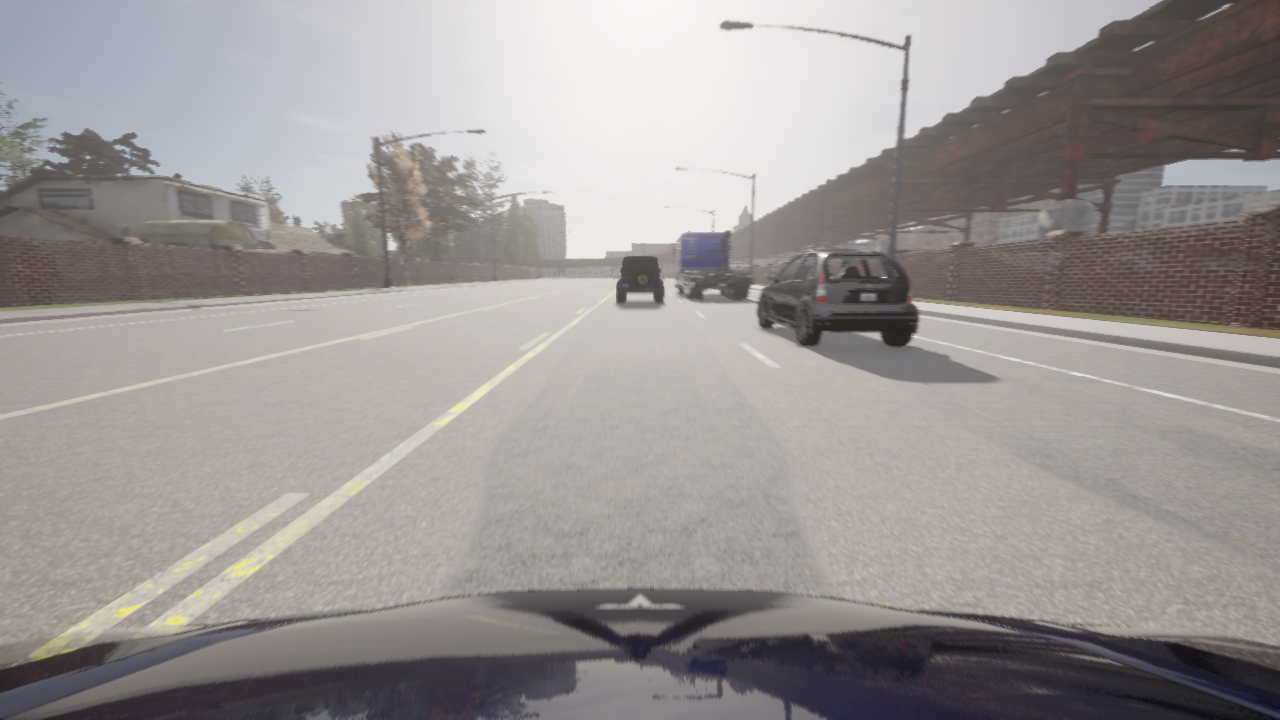cyclist: (0, 588, 1279, 719), (757, 250, 918, 346), (671, 231, 750, 299), (616, 256, 663, 302)
